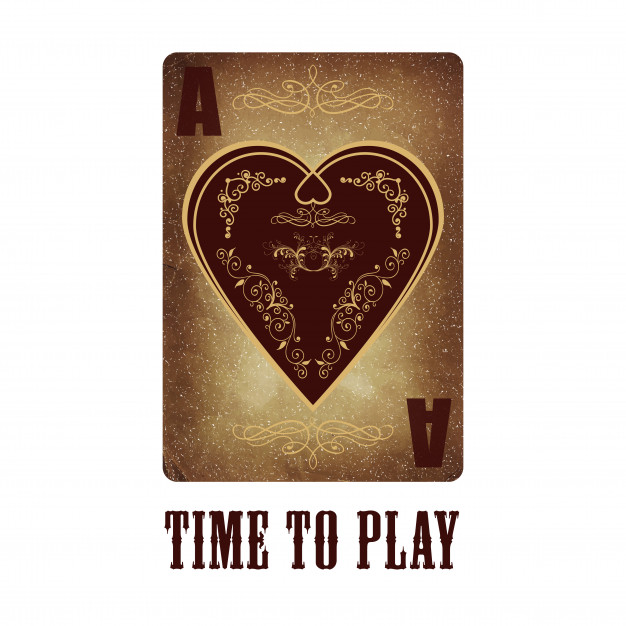ace of hearts: (163, 56, 463, 479)
